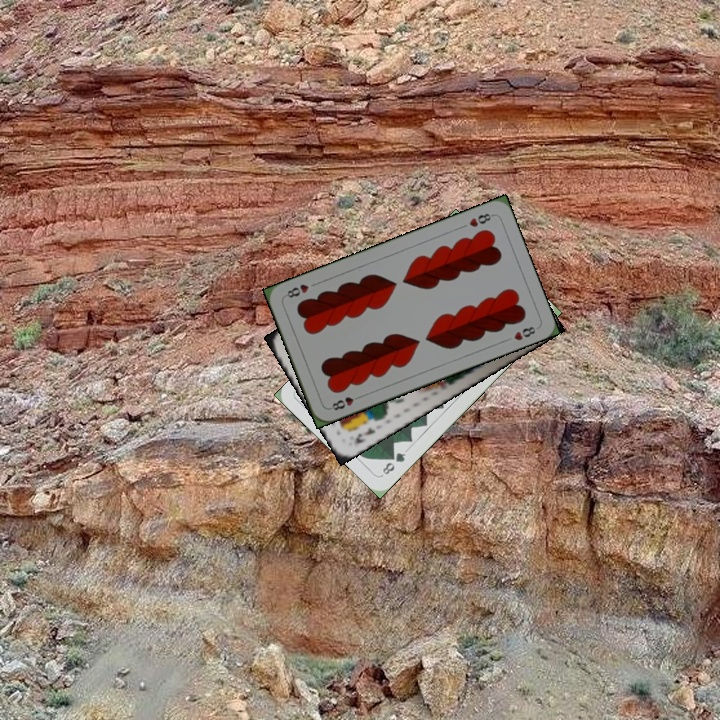EK: (350, 423, 379, 446)
G8: (378, 448, 408, 477)
H8: (325, 391, 364, 413), (465, 209, 496, 230)
